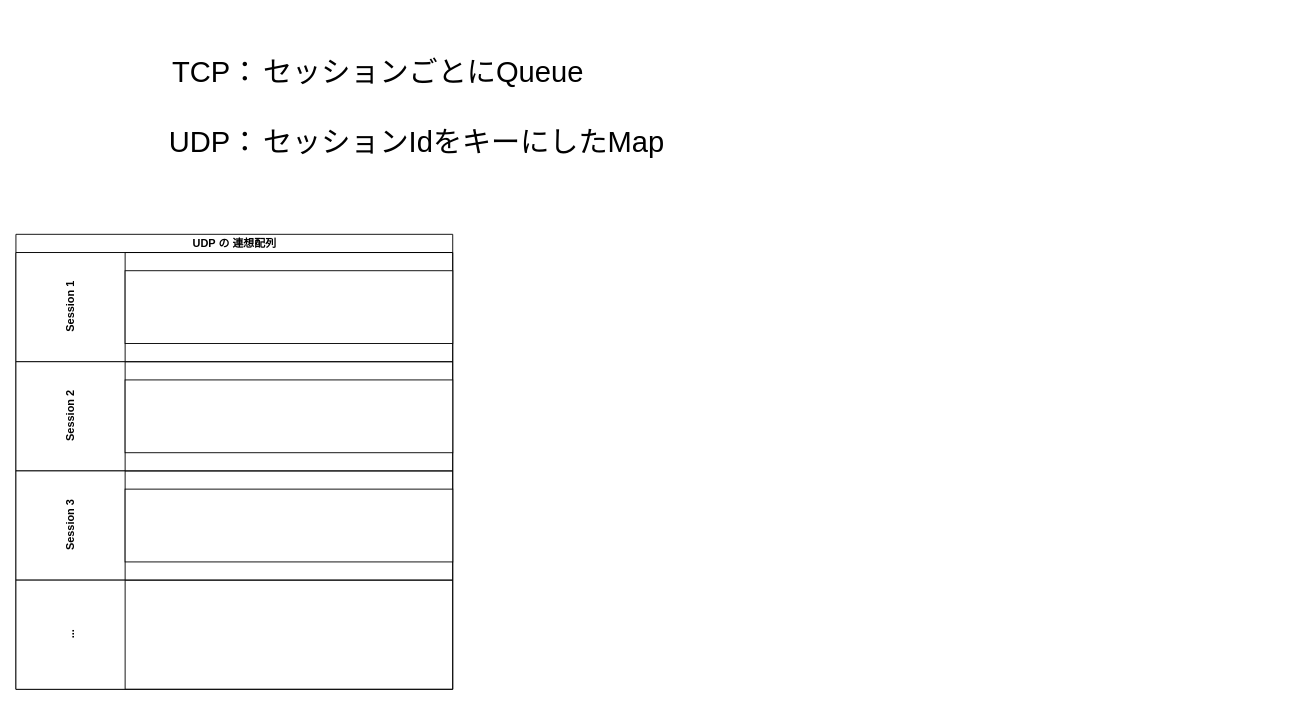
This 1315x705 diagram has some shape labels left out. Here are the shapes that lost their labels. From the top down, the centre of each, then its label:
At (288,307): "POS:{ x:1.1, y:0.0, z:43.3 }".
At (288,416): "POS:{ x:13.0, y:0.0, z:63.34 }".
At (288,525): "POS:{ x:46.4, y:0.0, z:23.2 }".
